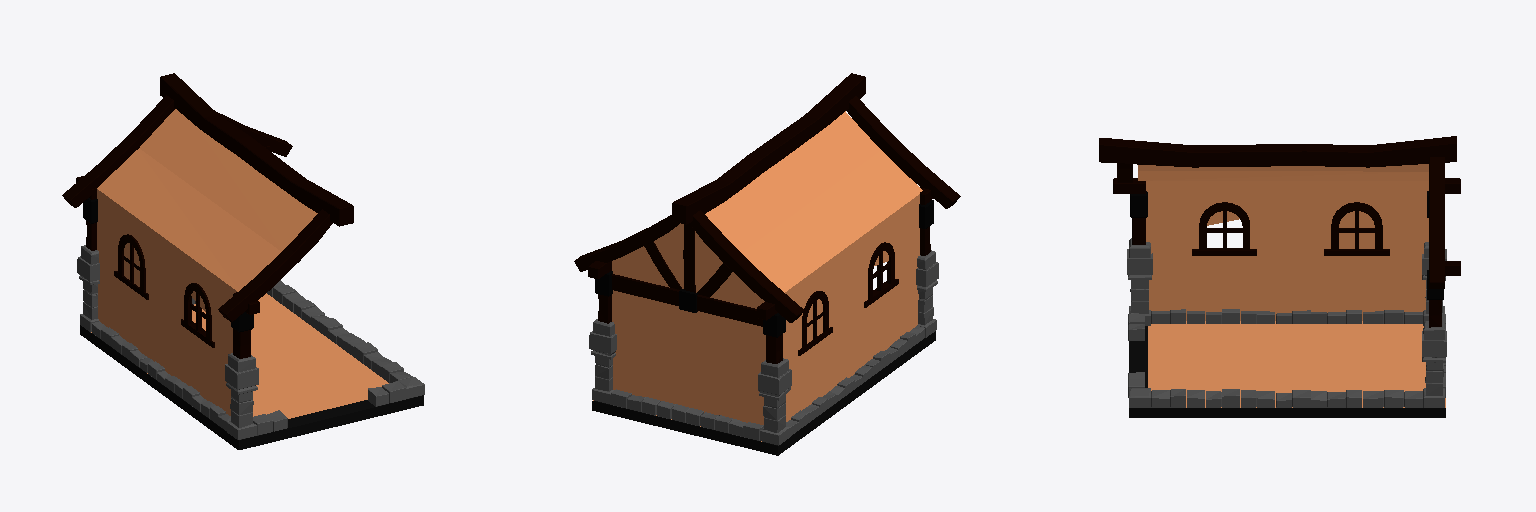
Rendered from GuildHallinterior.obj.
3 renders of one model, left to right at view 1: azimuth 30°, elevation 25°; view 2: azimuth 150°, elevation 25°; view 3: azimuth 270°, elevation 25°, orthographic.
Visible parts, largest first — view 1: Cube_Cube.001, Cube.013_Cube.016, Cube.012_Cube.017, Cube.010_Cube.019, Cylinder.003_Cylinder.010, Cube.014_Cube.015, Cylinder.000_Cylinder.007, Cylinder_Cylinder.001, Cylinder.004_Cylinder.009, Cube.007_Cube.021, Cube.008_Cube.009; view 2: Cube_Cube.001, Cube.012_Cube.017, Cube.010_Cube.019, Cylinder.000_Cylinder.007, Cube.014_Cube.015, Cylinder.004_Cylinder.009, Cylinder.003_Cylinder.010, Cylinder_Cylinder.001, Cube.015_Cube.024, Cube.007_Cube.021, Cube.008_Cube.009, Cube.006_Cube.022 (+2 smaller); view 3: Cube_Cube.001, Cube.013_Cube.016, Cube.010_Cube.019, Cylinder.003_Cylinder.010, Cylinder.000_Cylinder.007, Cube.014_Cube.015, Cylinder_Cylinder.001, Cube.012_Cube.017, Cube.007_Cube.021, Cylinder.004_Cylinder.009, Cube.011_Cube.018, Cube.008_Cube.009.
Boxes of the visible parts, box(x1,y1,x2,y2) form: Cube_Cube.001: box(97, 109, 317, 415); Cube.013_Cube.016: box(91, 293, 388, 418); Cube.012_Cube.017: box(62, 95, 332, 322); Cube.010_Cube.019: box(160, 73, 353, 226); Cylinder.003_Cylinder.010: box(92, 280, 412, 430); Cube.014_Cube.015: box(80, 325, 423, 449); Cylinder.000_Cylinder.007: box(77, 245, 424, 439); Cylinder_Cylinder.001: box(114, 234, 214, 347); Cylinder.004_Cylinder.009: box(192, 298, 405, 435); Cube.007_Cube.021: box(86, 146, 270, 358); Cube.008_Cube.009: box(83, 198, 253, 332); Cube_Cube.001: box(612, 111, 922, 424); Cube.012_Cube.017: box(574, 96, 960, 322); Cube.010_Cube.019: box(672, 73, 865, 224); Cylinder.000_Cylinder.007: box(589, 250, 938, 445); Cube.014_Cube.015: box(592, 331, 935, 455); Cylinder.004_Cylinder.009: box(611, 389, 763, 440); Cylinder.003_Cylinder.010: box(786, 326, 924, 436); Cylinder_Cylinder.001: box(798, 242, 898, 355); Cube.015_Cube.024: box(612, 274, 762, 326); Cube.007_Cube.021: box(598, 187, 930, 363); Cube.008_Cube.009: box(595, 200, 933, 337); Cube.006_Cube.022: box(644, 241, 732, 296); Cube_Cube.001: box(1138, 164, 1428, 320); Cube.013_Cube.016: box(1148, 321, 1445, 407); Cube.010_Cube.019: box(1099, 136, 1456, 167); Cylinder.003_Cylinder.010: box(1151, 309, 1422, 407); Cylinder.000_Cylinder.007: box(1127, 238, 1446, 407); Cube.014_Cube.015: box(1129, 326, 1445, 417); Cylinder_Cylinder.001: box(1192, 202, 1389, 255); Cube.012_Cube.017: box(1117, 157, 1444, 288); Cube.007_Cube.021: box(1132, 178, 1441, 327); Cylinder.004_Cylinder.009: box(1128, 314, 1445, 397); Cube.011_Cube.018: box(1113, 178, 1460, 275); Cube.008_Cube.009: box(1130, 191, 1443, 299).
Size of the model in its own units: 7.53 by 7.52 by 10.58.